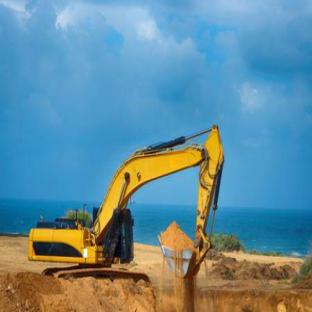ExcavationMachinery: (34, 114, 237, 285)
